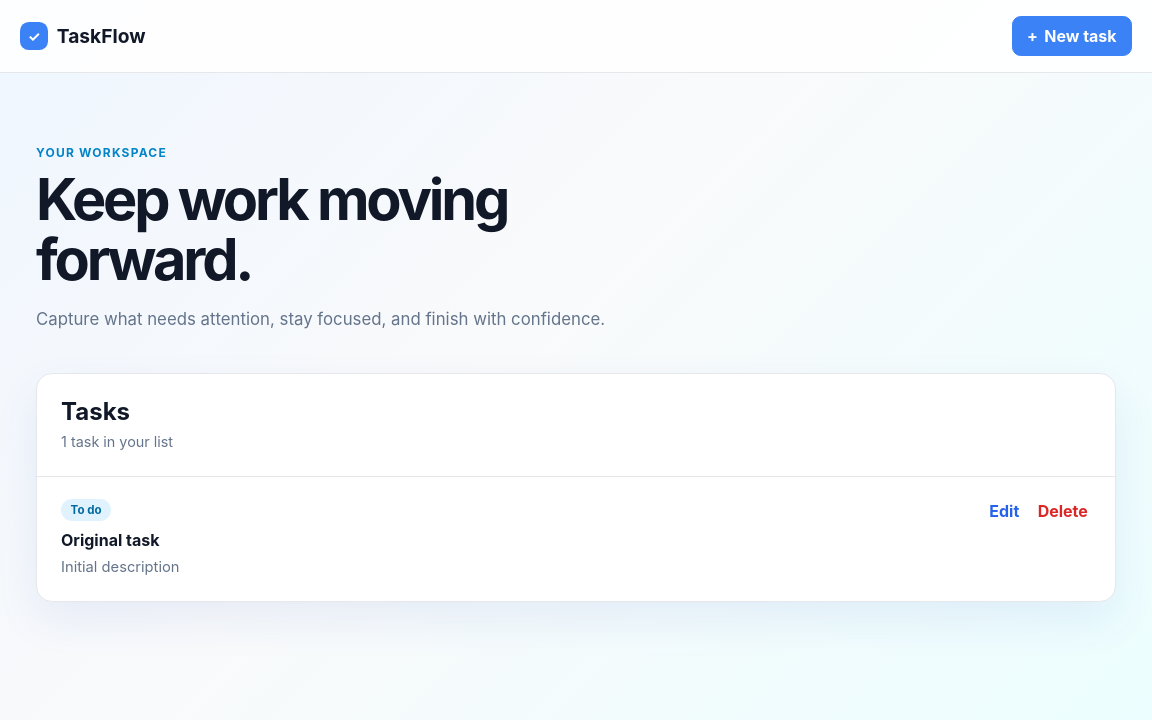
App › edits and deletes an existing task
Expected: the heading "Original task" is shown, [61,530,160,550]
Step 1. Click the button "Edit" → x=1004, y=512, box [986,498,1022,525]
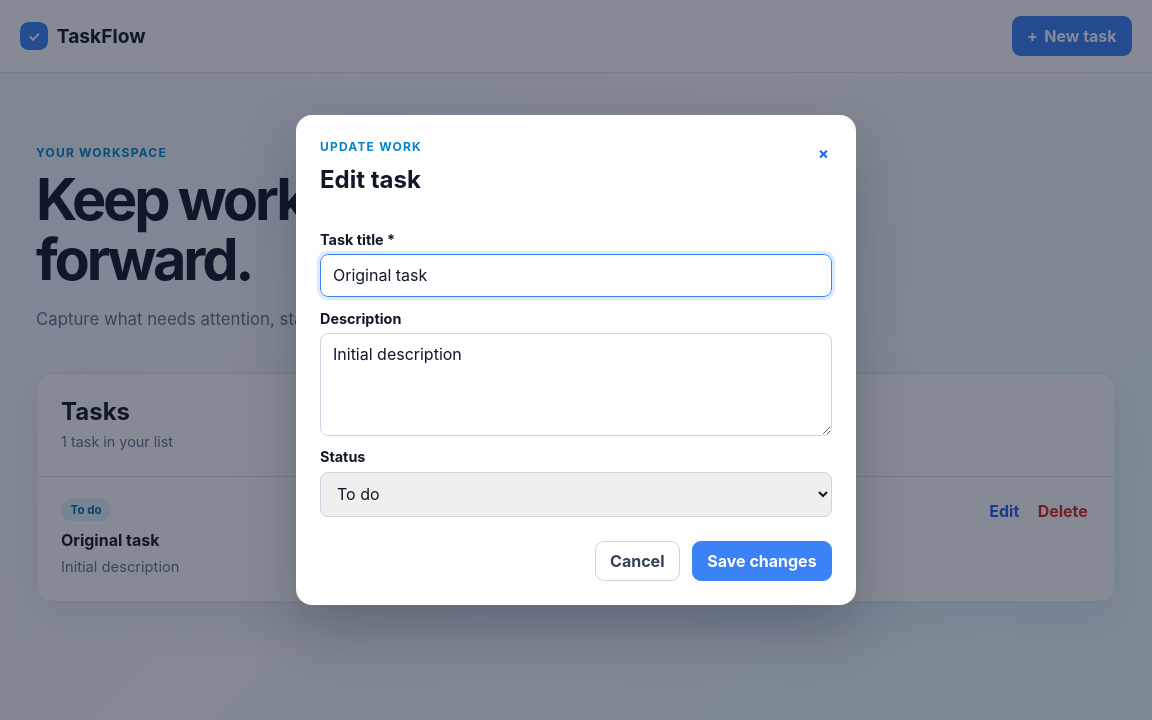
Step 2. Replace the text in the field labelled "Task title *" with "Updated task" → x=576, y=275, box [320,254,832,297]
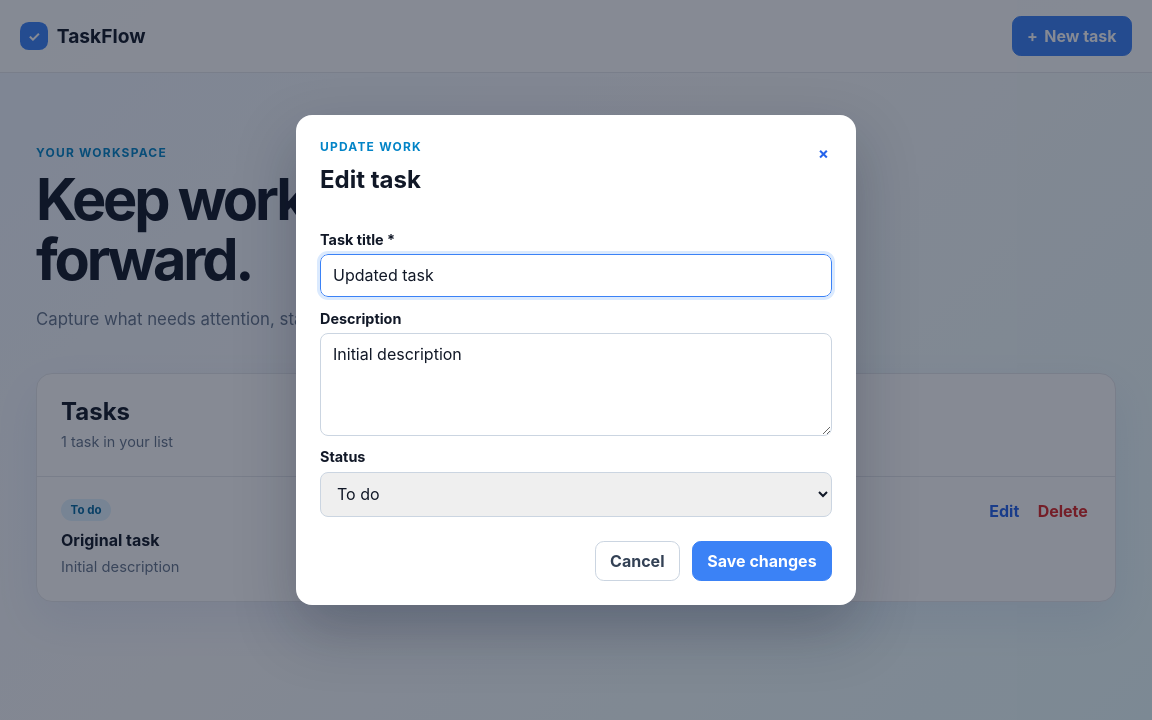
Step 3. Select "Done" in the dropdown labelled "Status" → x=576, y=494, box [320,472,832,517]
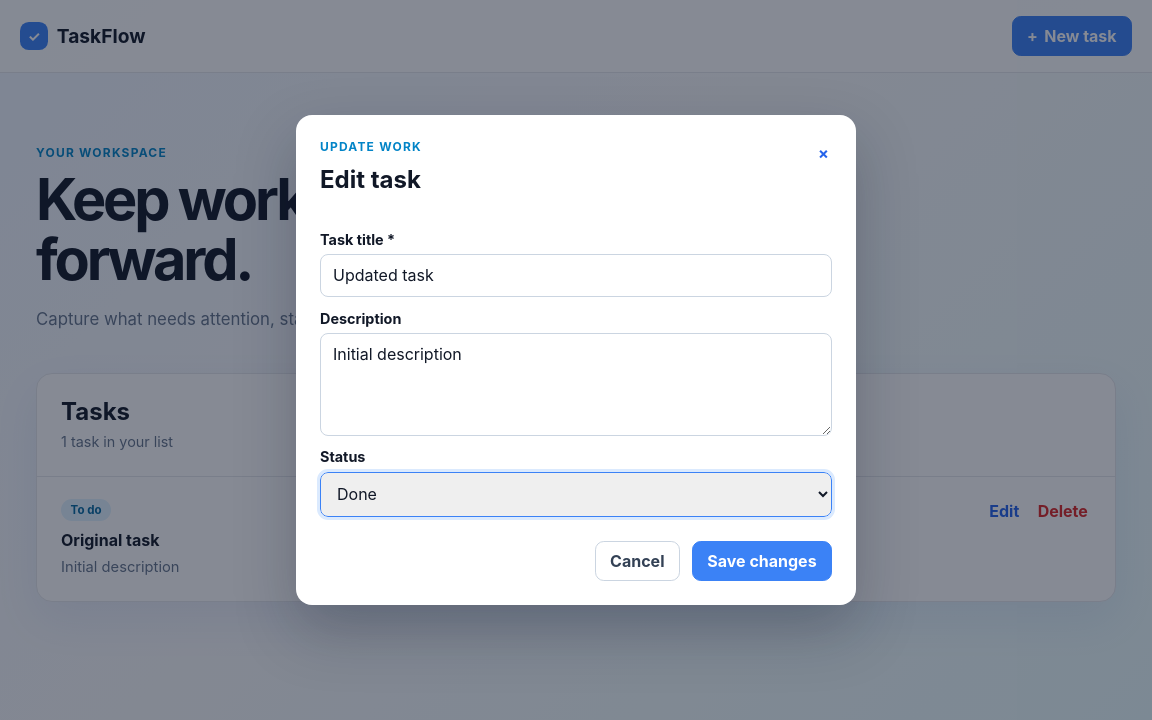
Step 4. Click the button "Save changes" → x=762, y=561, box [692,541,832,581]
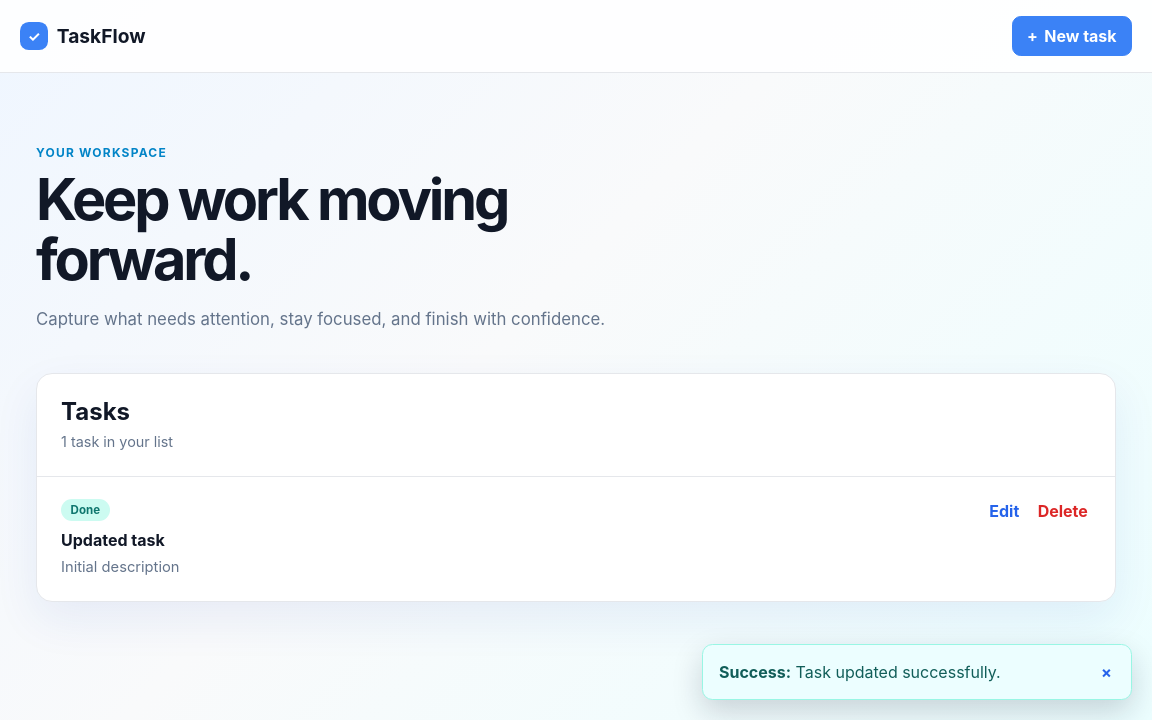
Result: the text "Task updated successfully." is shown at [796,662,1001,682]
Step 5. Click the button "Delete" → x=1063, y=512, box [1034,498,1091,525]
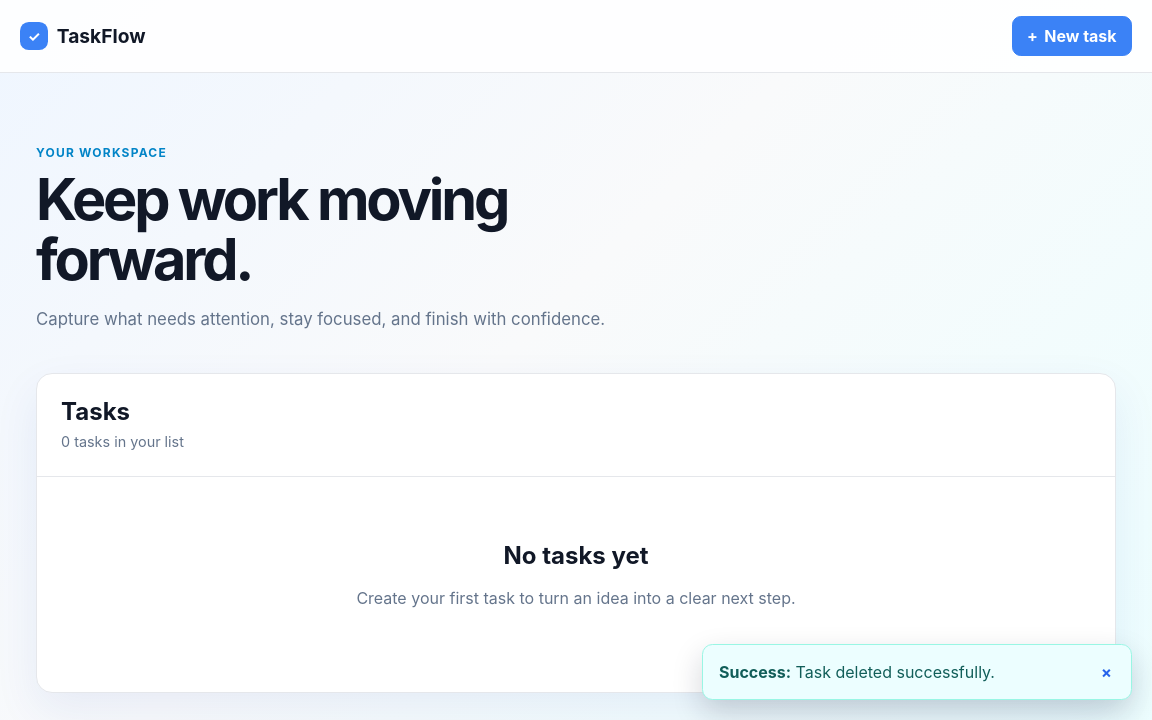
Result: the heading "No tasks yet" is shown at [503,542,648,570]
